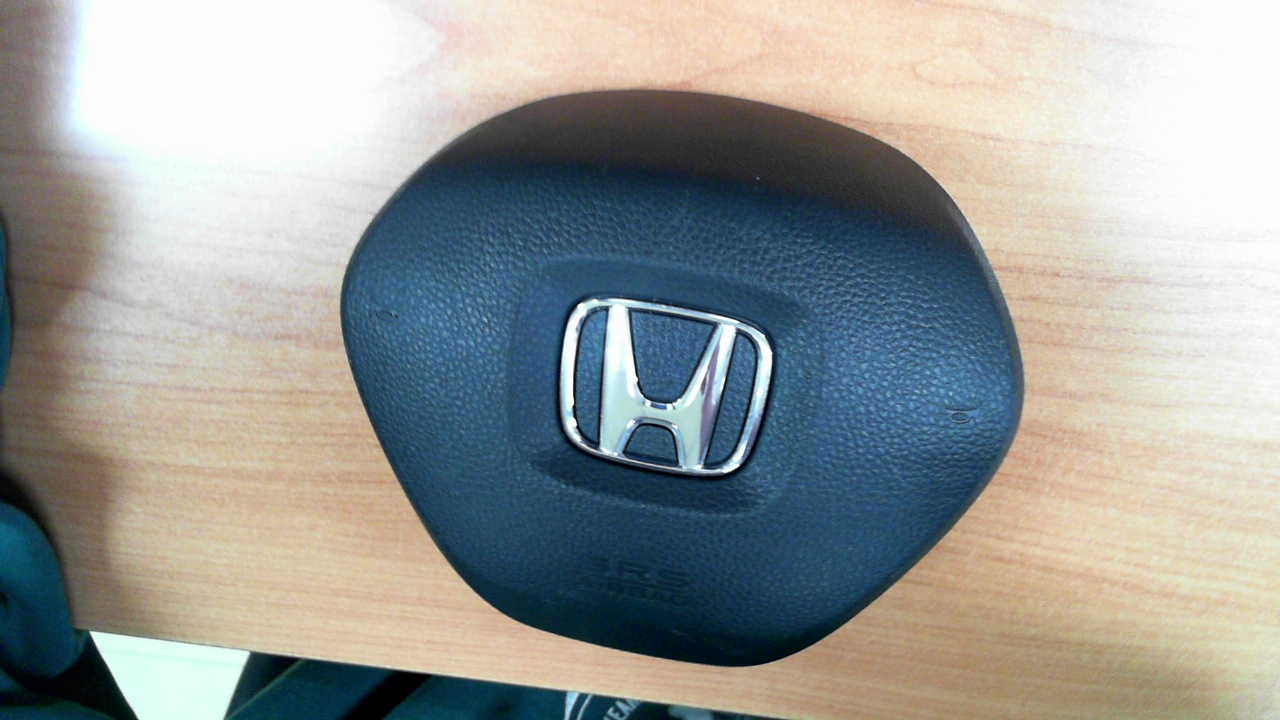Airbag: (339, 88, 1024, 666)
Honda: (559, 298, 766, 474)
